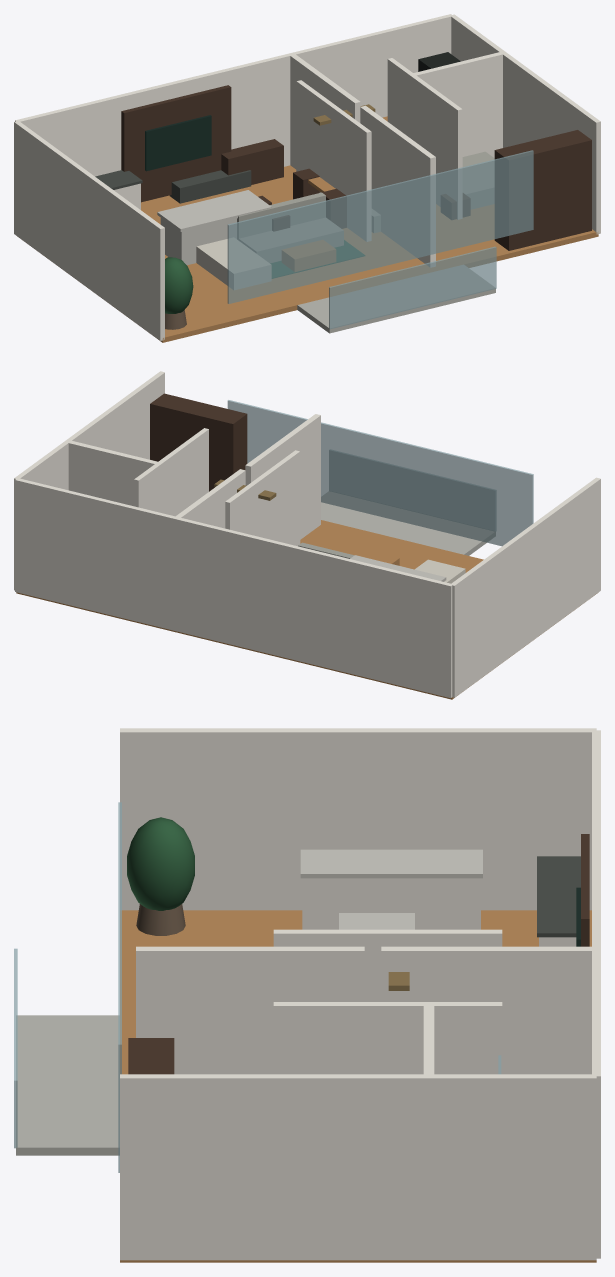
File: two-bedroom.glb
3 views of the same model, one above another, from view 1: azimuth 30°, elevation 25°; view 2: azimuth 150°, elevation 25°; view 3: azimuth 270°, elevation 25° (orthographic). The views are drawn at different scales.
Visible parts, largest first — view 1: WINDOW_FRONT, WALL_BACK, WALL_LEFT, FLOOR_WOOD, MASTER_WARDROBE, MASTER_PARTITION, WALL_RIGHT, BALCONY_RAIL, PARTITION_2, MEDIA_WALL, BALCONY, PARTITION_1 (+19 smaller); view 2: WALL_BACK, WINDOW_FRONT, WALL_LEFT, BALCONY_RAIL, MASTER_WARDROBE, WALL_RIGHT, BALCONY, PARTITION_2, FLOOR_WOOD, PARTITION_1, BATH_PARTITION, MASTER_PARTITION (+3 smaller); view 3: WALL_RIGHT, WALL_LEFT, MASTER_PARTITION, SECOND_BED_PARTITION, PARTITION_1, BALCONY, FLOOR_WOOD, KITCHEN_RETURN, LIVING_PLANT, KITCHEN_RETURN_TOP, PARTITION_2, WALL_BACK (+7 smaller).
Boxes of the visible parts, box(x1,y1,x2,y2) form: WINDOW_FRONT: box(227, 150, 533, 303); WALL_BACK: box(15, 14, 452, 176); WALL_LEFT: box(14, 121, 164, 340); FLOOR_WOOD: box(17, 165, 598, 342); MASTER_WARDROBE: box(494, 130, 591, 250); MASTER_PARTITION: box(360, 105, 435, 267); WALL_RIGHT: box(450, 14, 600, 234); BALCONY_RAIL: box(329, 246, 496, 329); PARTITION_2: box(296, 80, 371, 241); MEDIA_WALL: box(121, 85, 231, 202); BALCONY: box(297, 265, 495, 333); PARTITION_1: box(387, 58, 462, 219); WALL_BACK: box(15, 478, 452, 698); WINDOW_FRONT: box(227, 400, 533, 546); WALL_LEFT: box(451, 477, 600, 697); BALCONY_RAIL: box(329, 450, 495, 530); MASTER_WARDROBE: box(150, 393, 247, 491); WALL_RIGHT: box(14, 371, 164, 590); BALCONY: box(321, 491, 495, 555); PARTITION_2: box(225, 450, 300, 546); FLOOR_WOOD: box(16, 520, 597, 699); PARTITION_1: box(134, 428, 208, 516); BATH_PARTITION: box(68, 440, 160, 506); MASTER_PARTITION: box(245, 414, 320, 539); WALL_RIGHT: box(120, 1074, 596, 1260); WALL_LEFT: box(120, 728, 596, 910); MASTER_PARTITION: box(136, 946, 364, 1074); SECOND_BED_PARTITION: box(381, 946, 595, 1074); PARTITION_1: box(273, 1002, 502, 1074); BALCONY: box(16, 1015, 119, 1155); FLOOR_WOOD: box(120, 910, 596, 1262); KITCHEN_RETURN: box(302, 878, 480, 929); LIVING_PLANT: box(127, 817, 194, 935); KITCHEN_RETURN_TOP: box(300, 849, 482, 878); PARTITION_2: box(273, 929, 502, 1001); WALL_BACK: box(592, 730, 600, 1258).
Size of what is drawn, in the model's own units: 11.12 by 2.76 by 7.88.
